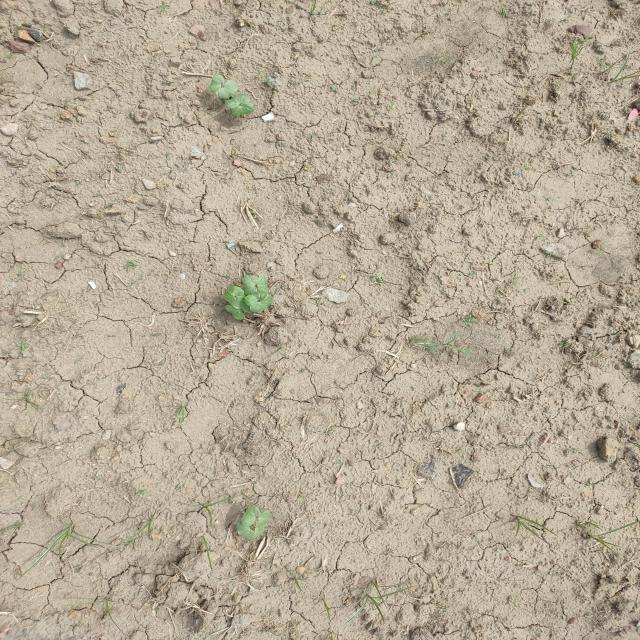seedling_s2: (249, 295, 273, 312), (241, 507, 260, 527), (224, 94, 250, 108), (218, 80, 238, 98), (244, 291, 267, 306), (231, 103, 255, 116), (237, 521, 255, 538), (225, 305, 245, 320), (242, 275, 257, 295), (232, 299, 253, 313), (228, 286, 247, 300), (209, 75, 224, 92), (223, 292, 240, 306), (256, 277, 269, 293), (254, 522, 267, 537), (258, 510, 270, 526)
